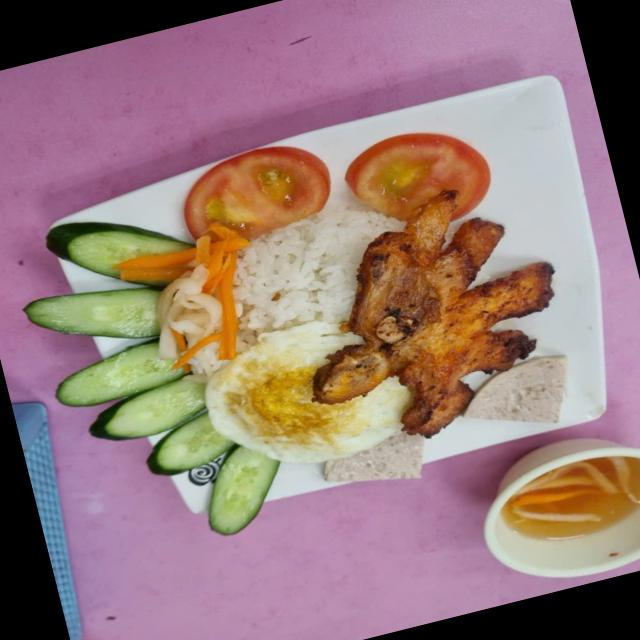ca chua: (184, 146, 330, 240), (345, 133, 491, 219)
com: (233, 199, 403, 350), (192, 346, 222, 373)
dua leo: (47, 222, 193, 286), (56, 339, 183, 406), (89, 377, 206, 440), (24, 287, 161, 338), (209, 446, 280, 535), (147, 412, 235, 475)
nuoc mam: (503, 456, 640, 538)
suon mieng: (314, 192, 553, 437)
trung chien: (206, 320, 411, 462)
